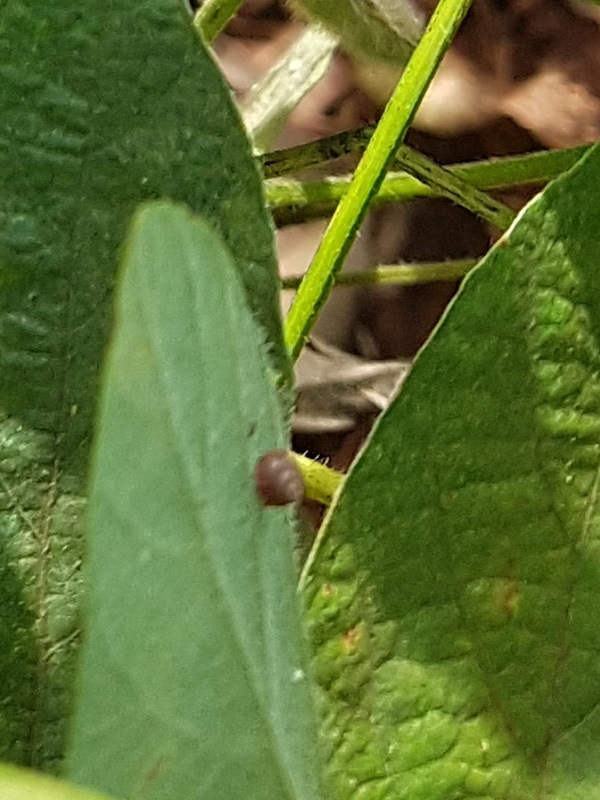Gastropoda: (231, 432, 328, 525)
